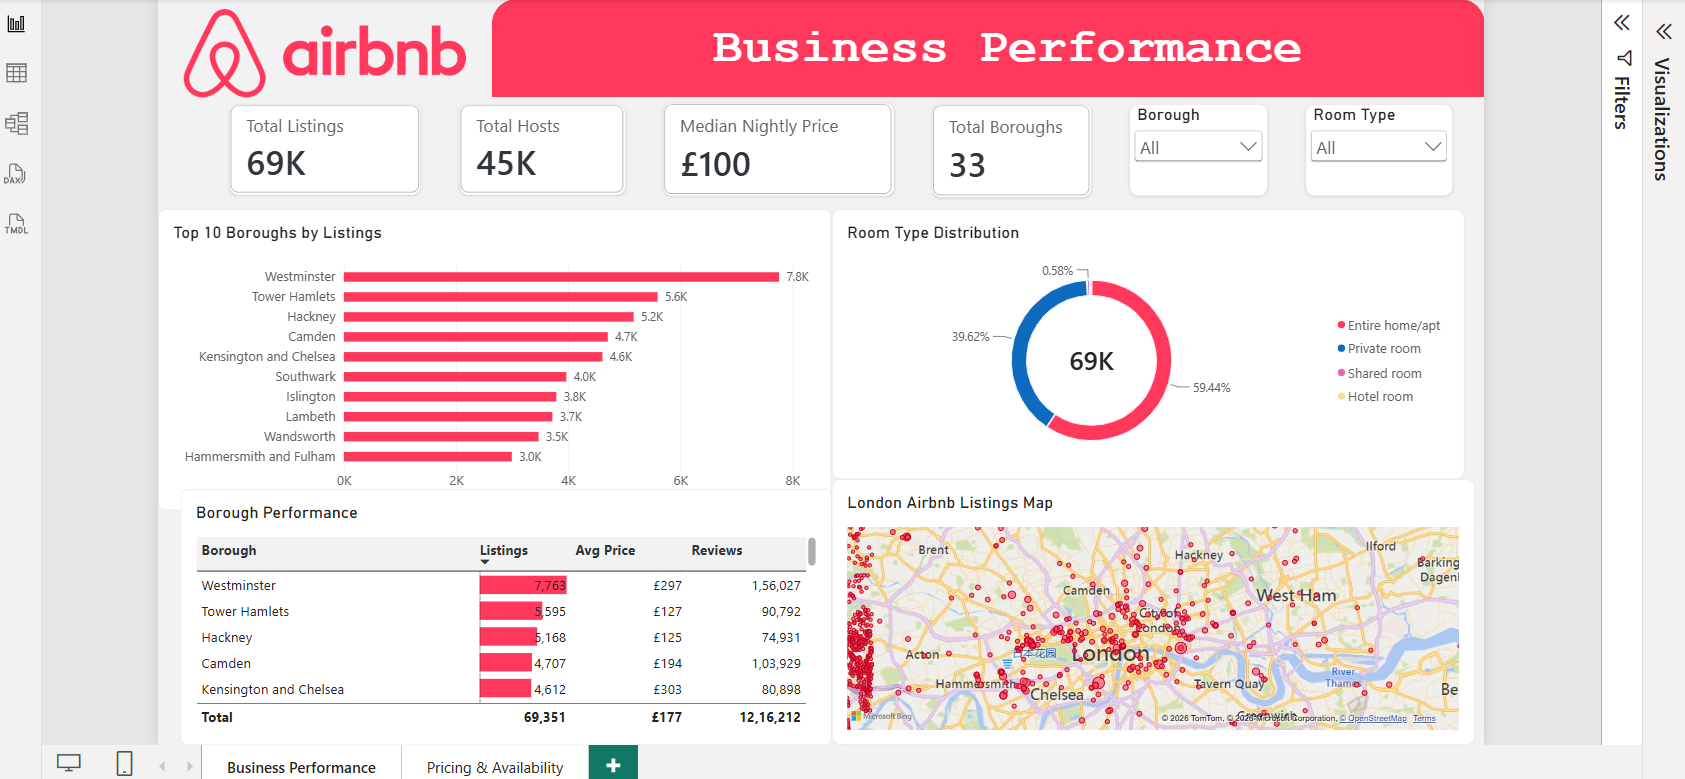

What the dashboard file says about the page in this screenshot:
{"tool":"powerbi","page":{"name":"Business Performance","canvas":[1440,810],"ordinal":0},"visuals":[{"type":"cardVisual","fields":{"Data":["Airbnb_Listings.Total Listings"]},"box":[77.6,114.1,208.4,98.9],"z":0},{"type":"cardVisual","fields":{"Data":["Airbnb_Listings.Median Nightly Price"]},"box":[548.4,112.5,251,101.9],"z":1000},{"type":"cardVisual","fields":{"Data":["Airbnb_Listings.Total Boroughs"]},"box":[840.2,114.1,173.4,101.9],"z":2000},{"type":"cardVisual","fields":{"Data":["Airbnb_Listings.Total Hosts"]},"box":[326.7,114.1,181,98.9],"z":3000},{"type":"image","box":[0,10.6,362,95.8],"z":4000},{"type":"shape","box":[362,0,1078.3,106.5],"z":5000},{"type":"textbox","box":[559.7,22.8,727,74.5],"z":6000},{"type":"clusteredBarChart","title":"Top 10 Boroughs by Listings","fields":{"Category":["Airbnb_Listings.neighbourhood"],"Y":["Airbnb_Listings.Total Listings"]},"box":[0,228.1,731.6,327],"z":7000},{"type":"donutChart","title":"Room Type Distribution","fields":{"Category":["Airbnb_Listings.room_type"],"Y":["Airbnb_Listings.Total Listings"]},"box":[731.6,228.1,687.5,293.5],"z":8000},{"type":"tableEx","title":"Borough Performance","fields":{"Values":["Airbnb_Listings.neighbourhood","Airbnb_Listings.Total Listings","Airbnb_Listings.Average Nightly Price","Airbnb_Listings.Total Reviews"]},"box":[24.3,532.3,707.2,278.3],"z":9000},{"type":"map","title":"London Airbnb Listings Map","fields":{"Size":["Airbnb_Listings.Total Listings"],"X":["Airbnb_Listings.longitude"],"Y":["Airbnb_Listings.latitude"]},"box":[731.6,521.7,698.1,289],"z":10000},{"type":"slicer","fields":{"Values":["Airbnb_Listings.neighbourhood"]},"box":[1054.3,114.1,150.6,100.4],"z":11000},{"type":"slicer","fields":{"Values":["Airbnb_Listings.room_type"]},"box":[1245.6,114.1,159.7,100.4],"z":12000}]}

Visuals, with their boxes on the page's 1440x810 design canvas (x1, y1, x2, y2). These are canvas units, not pixel positions in the 1685x779 screenshot, which may show the page scaled, cropped or inside an application window:
cardVisual - Airbnb_Listings.Total Listings: rect(78, 114, 286, 213)
cardVisual - Airbnb_Listings.Median Nightly Price: rect(548, 112, 799, 214)
cardVisual - Airbnb_Listings.Total Boroughs: rect(840, 114, 1014, 216)
cardVisual - Airbnb_Listings.Total Hosts: rect(327, 114, 508, 213)
image: rect(0, 11, 362, 106)
shape: rect(362, 0, 1440, 106)
textbox: rect(560, 23, 1287, 97)
"Top 10 Boroughs by Listings" clusteredBarChart: rect(0, 228, 732, 555)
"Room Type Distribution" donutChart: rect(732, 228, 1419, 522)
"Borough Performance" tableEx: rect(24, 532, 732, 811)
"London Airbnb Listings Map" map: rect(732, 522, 1430, 811)
slicer - Airbnb_Listings.neighbourhood: rect(1054, 114, 1205, 214)
slicer - Airbnb_Listings.room_type: rect(1246, 114, 1405, 214)
